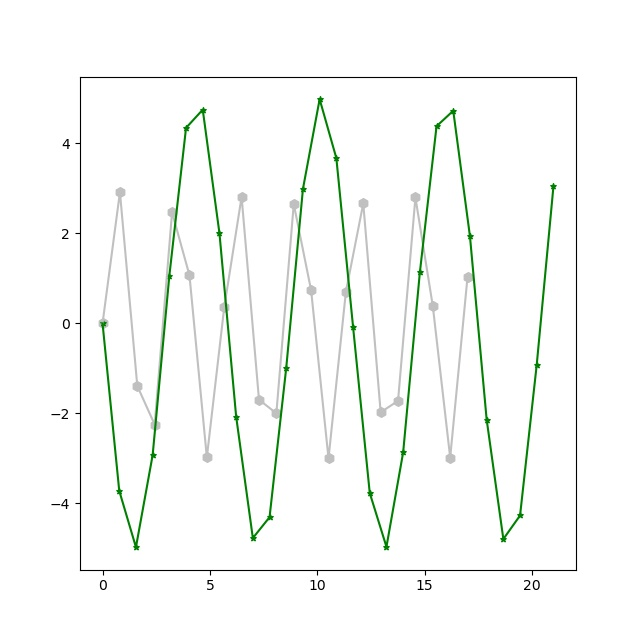hexagon1: (97, 318, 109, 330), (114, 187, 126, 199), (132, 381, 144, 393), (149, 419, 161, 431), (167, 207, 179, 219), (184, 270, 196, 282), (201, 452, 213, 464), (219, 302, 231, 314), (236, 191, 248, 203), (253, 394, 265, 406), (271, 408, 283, 420), (288, 199, 300, 211), (306, 285, 318, 297), (323, 453, 335, 465), (340, 286, 352, 298), (358, 198, 370, 210), (375, 407, 387, 419), (393, 395, 405, 407), (410, 192, 422, 204), (427, 301, 439, 313), (445, 452, 457, 464), (462, 271, 474, 283)
star: (99, 319, 108, 328), (115, 487, 124, 496), (132, 543, 141, 552), (149, 451, 158, 460), (165, 272, 174, 281), (182, 124, 191, 133), (199, 106, 208, 115), (215, 229, 224, 238), (232, 413, 241, 422), (249, 534, 258, 543), (266, 513, 275, 522), (282, 364, 291, 373), (299, 185, 308, 194), (316, 95, 325, 104), (332, 154, 341, 163), (349, 323, 358, 332), (366, 489, 375, 498), (382, 543, 391, 552), (399, 448, 408, 457), (416, 268, 425, 277), (433, 122, 442, 131), (449, 107, 458, 116), (466, 232, 475, 241), (483, 416, 492, 425), (499, 535, 508, 544), (516, 511, 525, 520), (533, 361, 542, 370), (549, 182, 558, 191)
